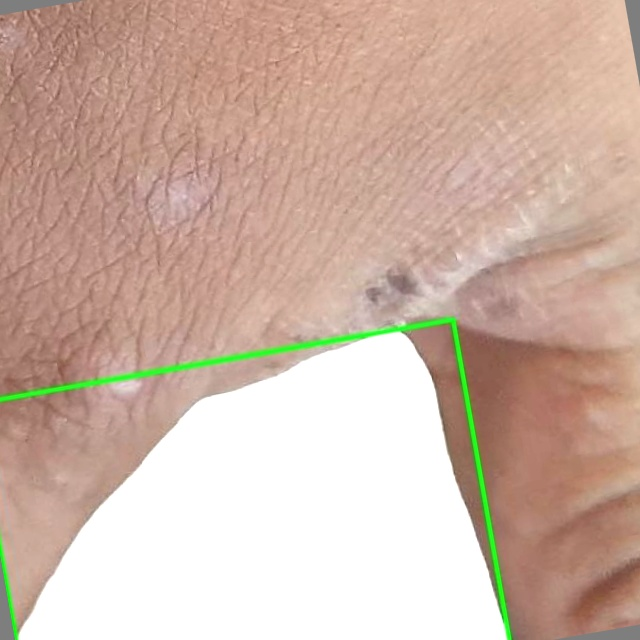Scabies: (0, 319, 509, 639)
